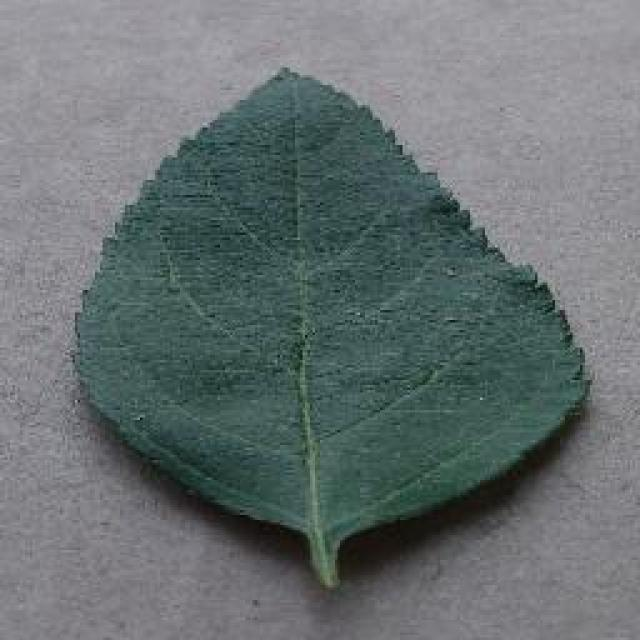apple healthy: (70, 62, 592, 590)
